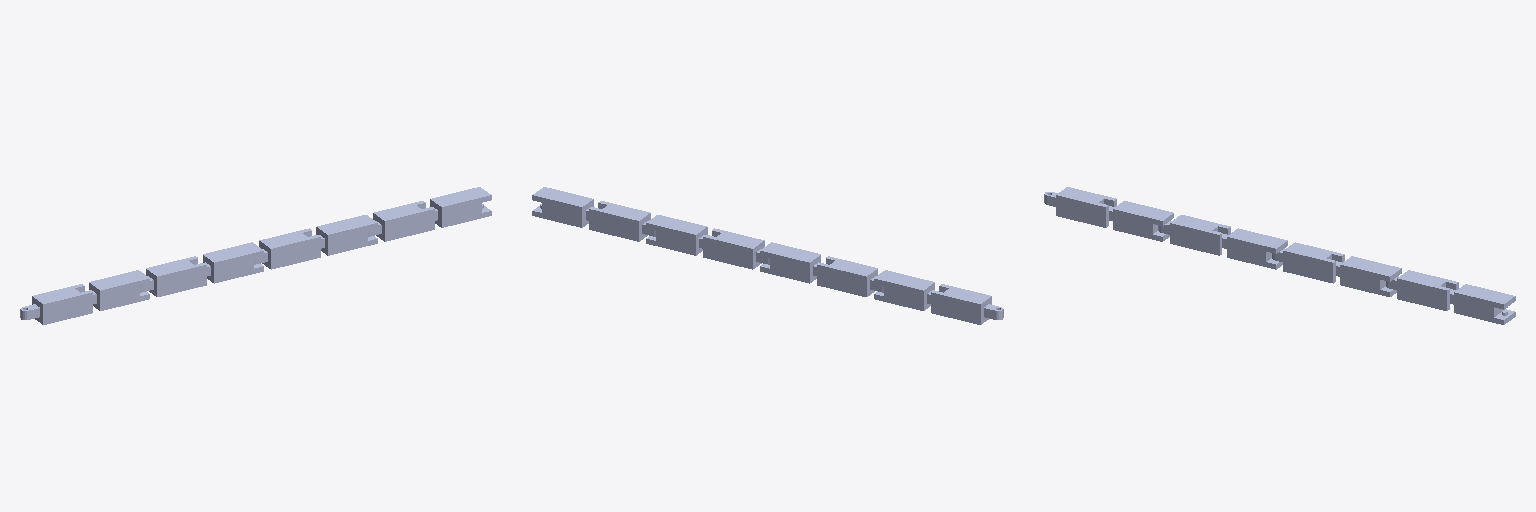
URDF robot description (snake):
<?xml version="1.0" encoding="utf-8"?>
<!-- This URDF was automatically created by SolidWorks to URDF Exporter! Originally created by [author] ([email redacted]) 
     Commit Version: 1.6.0-4-g7f85cfe  Build Version: 1.6.7995.38578
     For more information, please see http://wiki.ros.org/sw_urdf_exporter -->
<robot
  name="snake">
  <link
    name="base_link">
    <inertial>
      <origin
        xyz="0.00156244709217369 7.36156561796138E-20 0.0127"
        rpy="0 0 0" />
      <mass
        value="0.039327668789256" />
      <inertia
        ixx="4.18513649730574E-06"
        ixy="-1.1667469009904E-21"
        ixz="-2.14329509741926E-22"
        iyy="1.60874850962809E-05"
        iyz="2.14786092918783E-22"
        izz="1.62585612822121E-05" />
    </inertial>
    <visual>
      <origin
        xyz="0 0 0"
        rpy="0 0 0" />
      <geometry>
        <mesh
          filename="package://snake/meshes/base_link.STL" />
      </geometry>
      <material
        name="">
        <color
          rgba="0.792156862745098 0.819607843137255 0.933333333333333 1" />
      </material>
    </visual>
    <collision>
      <origin
        xyz="0 0 0"
        rpy="0 0 0" />
      <geometry>
        <mesh
          filename="package://snake/meshes/base_link.STL" />
      </geometry>
    </collision>
  </link>
  <link
    name="link2">
    <inertial>
      <origin
        xyz="0.0422024470921737 -2.10330446227468E-20 0.00444499999999999"
        rpy="0 0 0" />
      <mass
        value="0.039327668789256" />
      <inertia
        ixx="4.18513649730575E-06"
        ixy="-2.19903965891902E-21"
        ixz="-2.20120945843827E-21"
        iyy="1.60874850962809E-05"
        iyz="-3.88800265581256E-23"
        izz="1.62585612822122E-05" />
    </inertial>
    <visual>
      <origin
        xyz="0 0 0"
        rpy="0 0 0" />
      <geometry>
        <mesh
          filename="package://snake/meshes/link2.STL" />
      </geometry>
      <material
        name="">
        <color
          rgba="0.792156862745098 0.819607843137255 0.933333333333333 1" />
      </material>
    </visual>
    <collision>
      <origin
        xyz="0 0 0"
        rpy="0 0 0" />
      <geometry>
        <mesh
          filename="package://snake/meshes/link2.STL" />
      </geometry>
    </collision>
  </link>
  <joint
    name="joint1"
    type="continuous">
    <origin
      xyz="0.03175 0.00444499999999999 0.0127"
      rpy="1.5707963267949 0 0" />
    <parent
      link="base_link" />
    <child
      link="link2" />
    <axis
      xyz="0 0 -1" />
  </joint>
  <link
    name="link3">
    <inertial>
      <origin
        xyz="0.0422024470921737 9.54556822600721E-19 -0.00444499999999999"
        rpy="0 0 0" />
      <mass
        value="0.039327668789256" />
      <inertia
        ixx="4.18513649730574E-06"
        ixy="-3.54105516795188E-23"
        ixz="-1.10520880724734E-23"
        iyy="1.60874850962809E-05"
        iyz="2.432636351725E-22"
        izz="1.62585612822121E-05" />
    </inertial>
    <visual>
      <origin
        xyz="0 0 0"
        rpy="0 0 0" />
      <geometry>
        <mesh
          filename="package://snake/meshes/link3.STL" />
      </geometry>
      <material
        name="">
        <color
          rgba="0.792156862745098 0.819607843137255 0.933333333333333 1" />
      </material>
    </visual>
    <collision>
      <origin
        xyz="0 0 0"
        rpy="0 0 0" />
      <geometry>
        <mesh
          filename="package://snake/meshes/link3.STL" />
      </geometry>
    </collision>
  </link>
  <joint
    name="joint2"
    type="continuous">
    <origin
      xyz="0.07239 0.00444499999999999 0.004445"
      rpy="-1.5707963267949 0 0" />
    <parent
      link="link2" />
    <child
      link="link3" />
    <axis
      xyz="0 0 1" />
  </joint>
  <link
    name="link4">
    <inertial>
      <origin
        xyz="0.0422024470921736 6.29419507574761E-18 0.00444499999999998"
        rpy="0 0 0" />
      <mass
        value="0.039327668789256" />
      <inertia
        ixx="4.18513649730575E-06"
        ixy="-3.41587341436935E-21"
        ixz="1.42954767411083E-21"
        iyy="1.60874850962809E-05"
        iyz="-7.01002818522396E-23"
        izz="1.62585612822122E-05" />
    </inertial>
    <visual>
      <origin
        xyz="0 0 0"
        rpy="0 0 0" />
      <geometry>
        <mesh
          filename="package://snake/meshes/link4.STL" />
      </geometry>
      <material
        name="">
        <color
          rgba="0.792156862745098 0.819607843137255 0.933333333333333 1" />
      </material>
    </visual>
    <collision>
      <origin
        xyz="0 0 0"
        rpy="0 0 0" />
      <geometry>
        <mesh
          filename="package://snake/meshes/link4.STL" />
      </geometry>
    </collision>
  </link>
  <joint
    name="joint3"
    type="continuous">
    <origin
      xyz="0.07239 0.00444499999999999 -0.00444499999999999"
      rpy="1.5707963267949 0 0" />
    <parent
      link="link3" />
    <child
      link="link4" />
    <axis
      xyz="0 0 -1" />
  </joint>
  <link
    name="link5">
    <inertial>
      <origin
        xyz="0.0422024470921738 -1.01128700482706E-18 -0.004445"
        rpy="0 0 0" />
      <mass
        value="0.0393276687892559" />
      <inertia
        ixx="4.18513649730574E-06"
        ixy="2.31030423538127E-22"
        ixz="1.08843235987676E-21"
        iyy="1.60874850962809E-05"
        iyz="2.22985805258643E-22"
        izz="1.62585612822121E-05" />
    </inertial>
    <visual>
      <origin
        xyz="0 0 0"
        rpy="0 0 0" />
      <geometry>
        <mesh
          filename="package://snake/meshes/link5.STL" />
      </geometry>
      <material
        name="">
        <color
          rgba="0.792156862745098 0.819607843137255 0.933333333333333 1" />
      </material>
    </visual>
    <collision>
      <origin
        xyz="0 0 0"
        rpy="0 0 0" />
      <geometry>
        <mesh
          filename="package://snake/meshes/link5.STL" />
      </geometry>
    </collision>
  </link>
  <joint
    name="joint4"
    type="continuous">
    <origin
      xyz="0.0723899999999999 0.004445 0.00444499999999998"
      rpy="-1.5707963267949 0 0" />
    <parent
      link="link4" />
    <child
      link="link5" />
    <axis
      xyz="0 0 1" />
  </joint>
  <link
    name="link6">
    <inertial>
      <origin
        xyz="0.0422024470921739 1.14171053944471E-17 0.00444499999999999"
        rpy="0 0 0" />
      <mass
        value="0.0393276687892559" />
      <inertia
        ixx="4.18513649730573E-06"
        ixy="-5.03587076614771E-21"
        ixz="7.07027596030047E-22"
        iyy="1.60874850962808E-05"
        iyz="-1.96953333556634E-22"
        izz="1.62585612822121E-05" />
    </inertial>
    <visual>
      <origin
        xyz="0 0 0"
        rpy="0 0 0" />
      <geometry>
        <mesh
          filename="package://snake/meshes/link6.STL" />
      </geometry>
      <material
        name="">
        <color
          rgba="0.792156862745098 0.819607843137255 0.933333333333333 1" />
      </material>
    </visual>
    <collision>
      <origin
        xyz="0 0 0"
        rpy="0 0 0" />
      <geometry>
        <mesh
          filename="package://snake/meshes/link6.STL" />
      </geometry>
    </collision>
  </link>
  <joint
    name="joint5"
    type="continuous">
    <origin
      xyz="0.0723900000000001 0.00444499999999999 -0.004445"
      rpy="1.5707963267949 0 0" />
    <parent
      link="link5" />
    <child
      link="link6" />
    <axis
      xyz="0 0 -1" />
  </joint>
  <link
    name="link7">
    <inertial>
      <origin
        xyz="0.0422024470921736 5.68666969897189E-19 -0.00444499999999999"
        rpy="0 0 0" />
      <mass
        value="0.0393276687892559" />
      <inertia
        ixx="4.18513649730574E-06"
        ixy="-3.395315255664E-21"
        ixz="1.78792287357896E-21"
        iyy="1.60874850962808E-05"
        iyz="9.76492694101602E-23"
        izz="1.62585612822121E-05" />
    </inertial>
    <visual>
      <origin
        xyz="0 0 0"
        rpy="0 0 0" />
      <geometry>
        <mesh
          filename="package://snake/meshes/link7.STL" />
      </geometry>
      <material
        name="">
        <color
          rgba="0.792156862745098 0.819607843137255 0.933333333333333 1" />
      </material>
    </visual>
    <collision>
      <origin
        xyz="0 0 0"
        rpy="0 0 0" />
      <geometry>
        <mesh
          filename="package://snake/meshes/link7.STL" />
      </geometry>
    </collision>
  </link>
  <joint
    name="joint6"
    type="continuous">
    <origin
      xyz="0.07239 0.004445 0.004445"
      rpy="-1.5708 0 0" />
    <parent
      link="link6" />
    <child
      link="link7" />
    <axis
      xyz="0 0 1" />
  </joint>
  <link
    name="link8">
    <inertial>
      <origin
        xyz="0.0422024470921739 2.5993806775774E-17 0.00444499999999999"
        rpy="0 0 0" />
      <mass
        value="0.0393276687892559" />
      <inertia
        ixx="4.18513649730574E-06"
        ixy="-7.05713762424341E-21"
        ixz="6.34879067644202E-22"
        iyy="1.60874850962808E-05"
        iyz="-2.55336093726076E-23"
        izz="1.62585612822121E-05" />
    </inertial>
    <visual>
      <origin
        xyz="0 0 0"
        rpy="0 0 0" />
      <geometry>
        <mesh
          filename="package://snake/meshes/link8.STL" />
      </geometry>
      <material
        name="">
        <color
          rgba="0.792156862745098 0.819607843137255 0.933333333333333 1" />
      </material>
    </visual>
    <collision>
      <origin
        xyz="0 0 0"
        rpy="0 0 0" />
      <geometry>
        <mesh
          filename="package://snake/meshes/link8.STL" />
      </geometry>
    </collision>
  </link>
  <joint
    name="joint7"
    type="continuous">
    <origin
      xyz="0.0723899999999999 0.00444499999999998 -0.00444499999999999"
      rpy="1.5707963267949 0 0" />
    <parent
      link="link7" />
    <child
      link="link8" />
    <axis
      xyz="0 0 -1" />
  </joint>
</robot>

--- Facts derived from the render (not from the file) ---
3 views of the same robot in one strip: view 1: azimuth 30°, elevation 25°; view 2: azimuth 150°, elevation 25°; view 3: azimuth 330°, elevation 25° (orthographic).
Model snake with 8 links and 7 joints (7 continuous), rooted at base_link, posed all joints at 0.
Links seen in each view (by area): view 1: base_link, link5, link7, link3, link8, link6, link4, link2; view 2: base_link, link5, link7, link3, link8, link6, link4, link2; view 3: base_link, link8, link7, link5, link3, link6, link4, link2.
Boxes of the visible links, x1,y1,x2,y2 form: base_link: (20,284,92,324); link5: (254,228,320,269); link7: (368,201,434,241); link3: (140,256,206,296); link8: (430,187,491,227); link6: (316,215,377,255); link4: (203,242,263,283); link2: (89,270,149,310); base_link: (931,284,1003,324); link5: (703,228,769,269); link7: (589,201,655,241); link3: (817,256,883,296); link8: (532,187,593,227); link6: (646,215,707,255); link4: (760,242,820,283); link2: (874,270,934,310); base_link: (1044,187,1116,227); link8: (1450,284,1515,324); link7: (1386,270,1458,310); link5: (1272,242,1344,283); link3: (1158,215,1230,255); link6: (1336,256,1401,296); link4: (1222,228,1287,269); link2: (1109,201,1173,241).
Size in the robot's own frame: 0.5911 by 0.0254 by 0.0254 metres.
Meshes: 8 distinct files referenced, 8 mesh visuals loaded (8 binary STL).